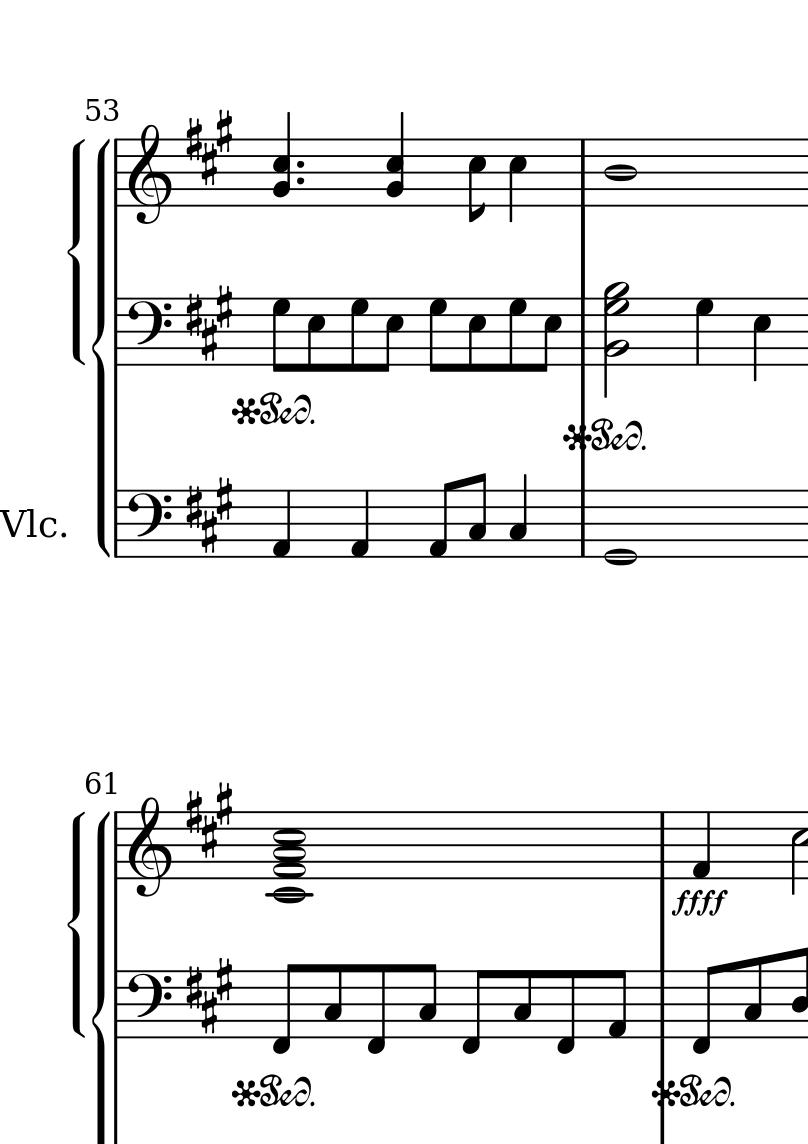1: (104, 768, 119, 797)
1_0: (604, 487, 639, 567)
1_4: (605, 136, 636, 210)
1_4th: (265, 809, 316, 905)
2_th: (602, 280, 631, 398)
3: (102, 95, 120, 124)
4_1: (271, 490, 295, 558), (691, 810, 713, 880), (352, 490, 371, 562)
4_2_5: (270, 111, 292, 211), (386, 112, 408, 212)
4_3: (509, 472, 529, 560)
4_5: (752, 296, 773, 383), (508, 136, 525, 222)
4_7: (694, 296, 715, 368)
5: (85, 96, 102, 124)
6: (84, 769, 102, 798)
8_-1: (270, 962, 303, 1055), (691, 964, 719, 1056), (460, 969, 489, 1055), (365, 961, 388, 1056), (556, 968, 577, 1056)
8_1: (426, 479, 456, 560), (604, 969, 628, 1043)
8_3: (467, 472, 488, 562), (743, 956, 764, 1041), (323, 962, 344, 1040), (418, 962, 439, 1040), (512, 968, 534, 1040)
8_4: (789, 945, 808, 1041)
8_5: (536, 297, 564, 373), (381, 297, 405, 375), (467, 137, 487, 223), (466, 294, 486, 375), (306, 297, 326, 375)
8_7: (349, 294, 372, 376), (426, 296, 449, 372), (270, 297, 292, 375), (505, 296, 526, 373)
A_S: (179, 958, 235, 1035), (184, 783, 237, 861), (183, 108, 234, 188), (184, 286, 230, 364), (185, 480, 232, 556)
Brace: (89, 135, 114, 559), (66, 809, 88, 1044), (67, 137, 88, 370)
Fclef: (123, 488, 176, 558), (125, 295, 175, 366), (126, 968, 173, 1041)
Gclef: (128, 121, 174, 223), (128, 798, 171, 895)
Single_barline: (574, 297, 594, 366), (573, 139, 593, 206), (653, 811, 672, 880), (109, 810, 127, 880), (574, 489, 592, 558), (654, 970, 671, 1039), (110, 139, 127, 206), (110, 297, 126, 366), (110, 490, 126, 558), (110, 971, 126, 1038)
Vlc: (1, 502, 58, 546)
dot: (294, 157, 309, 172), (294, 175, 307, 188)
ffff: (667, 886, 733, 925)
